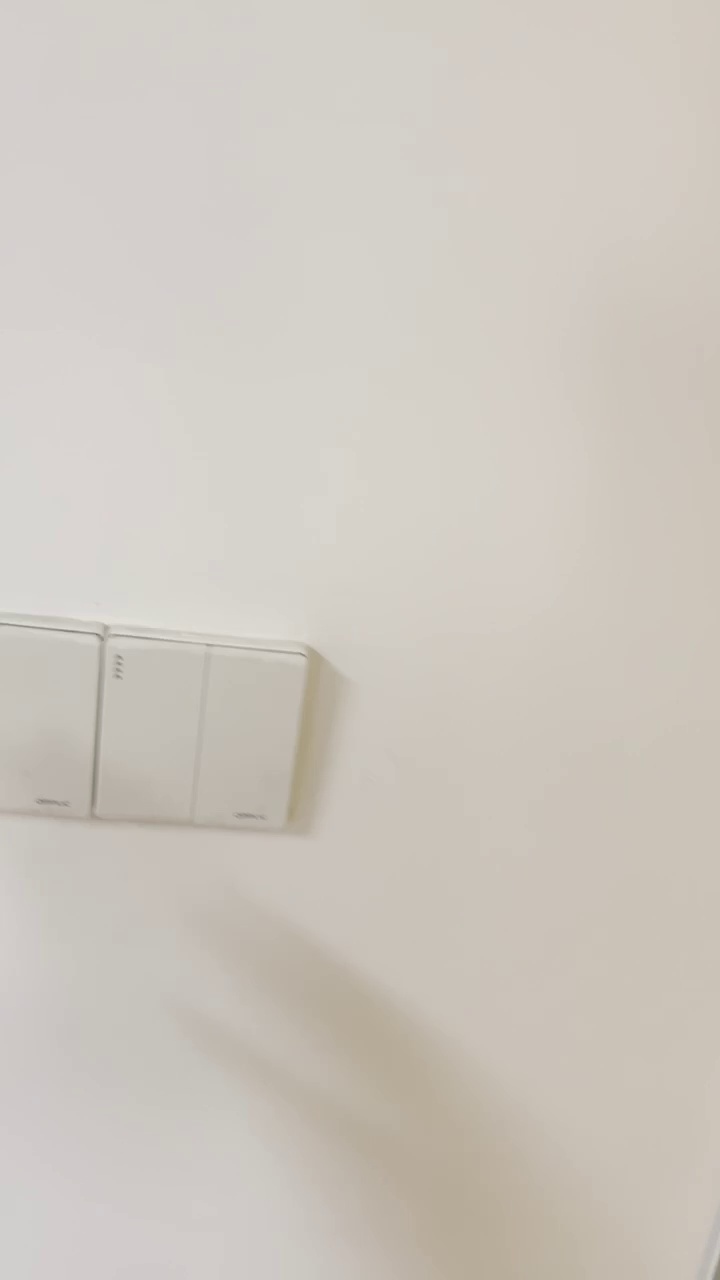button: (100, 626, 307, 835), (1, 612, 108, 825)
